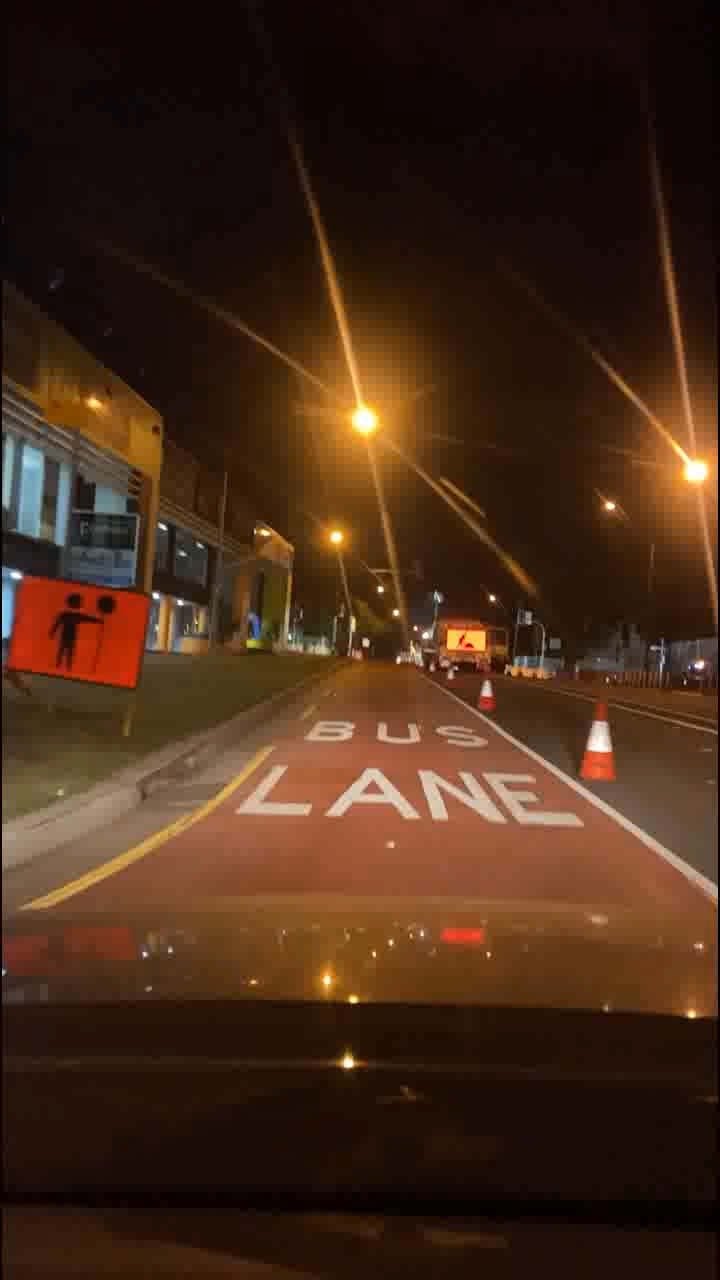prepare to stop board: (6, 570, 156, 688)
road cone: (575, 696, 622, 786), (460, 671, 506, 732)
truck: (408, 607, 520, 667)
